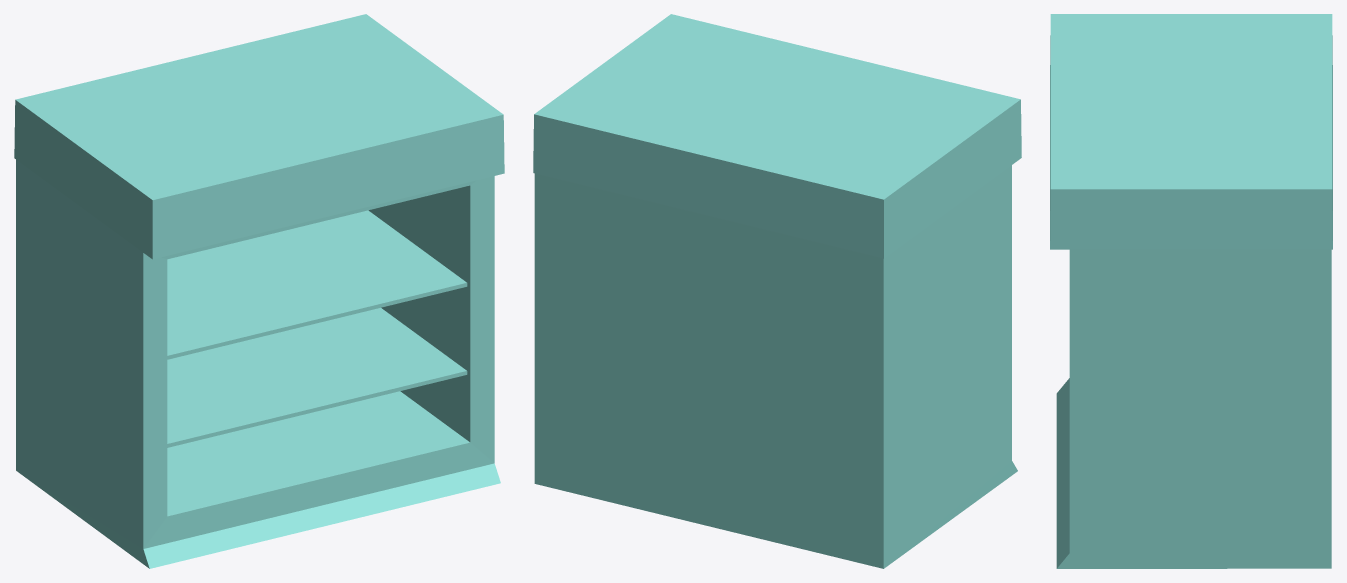
The model's file is DinerCooking1_Collision.fbx.
3 views of the same model, side by side, from view 1: azimuth 30°, elevation 25°; view 2: azimuth 150°, elevation 25°; view 3: azimuth 270°, elevation 25° (orthographic). The views are drawn at different scales.
Visible parts, largest first — view 1: DinerCooking1_Collision; view 2: DinerCooking1_Collision; view 3: DinerCooking1_Collision.
Boxes of the visible parts, x1,y1,x2,y2 form: DinerCooking1_Collision: (14,14,504,568); DinerCooking1_Collision: (533,14,1021,568); DinerCooking1_Collision: (1050,14,1332,568).
Bounding box in the file's own units: 1.16 × 1.16 × 0.7858.
